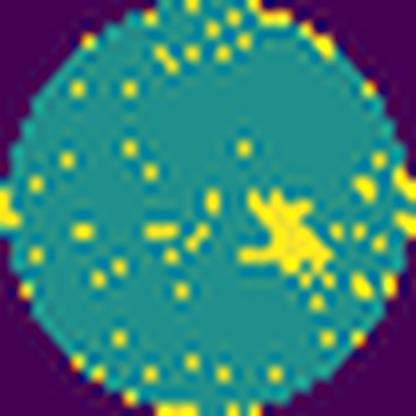Loc: (235, 184, 334, 278)
